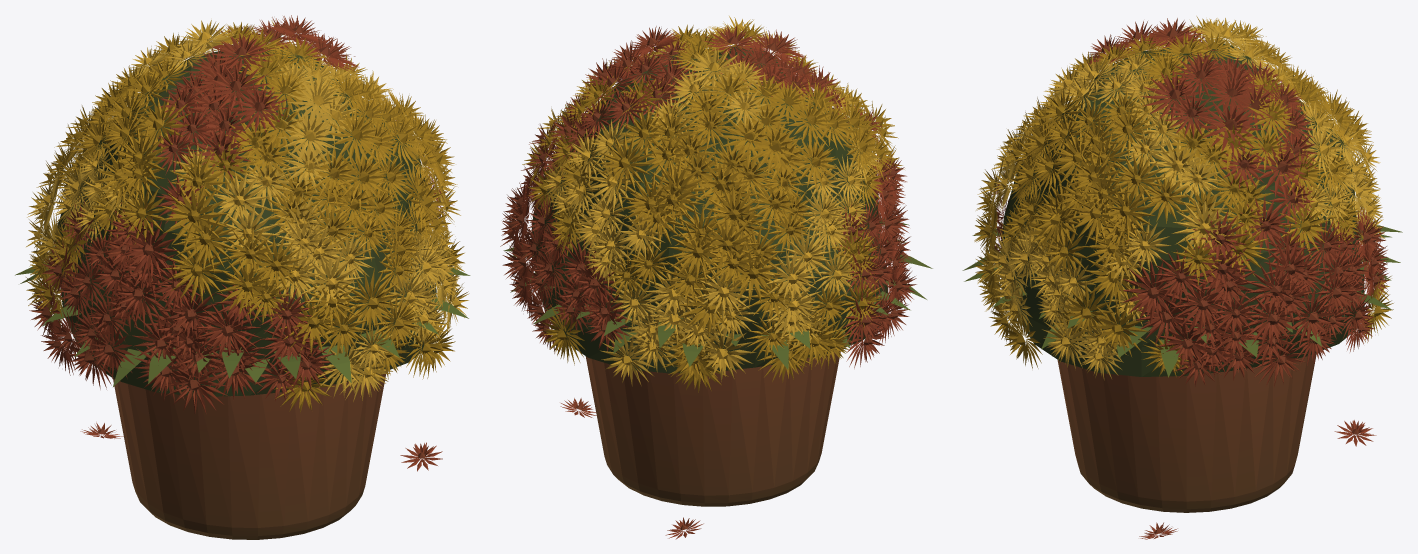
The model's file is plant_mums_flowerpot.glb.
3 renders of one model, left to right at view 1: azimuth 30°, elevation 25°; view 2: azimuth 150°, elevation 25°; view 3: azimuth 270°, elevation 25°, orthographic. The views are drawn at different scales.
Visible parts, largest first — view 1: mums_in_pot; view 2: mums_in_pot; view 3: mums_in_pot.
Boxes of the visible parts, x1,y1,x2,y2 form: mums_in_pot: (15,15,470,539); mums_in_pot: (500,16,932,539); mums_in_pot: (962,16,1402,539).
Size of the model in its own units: 0.8029 by 0.8972 by 0.8136.
